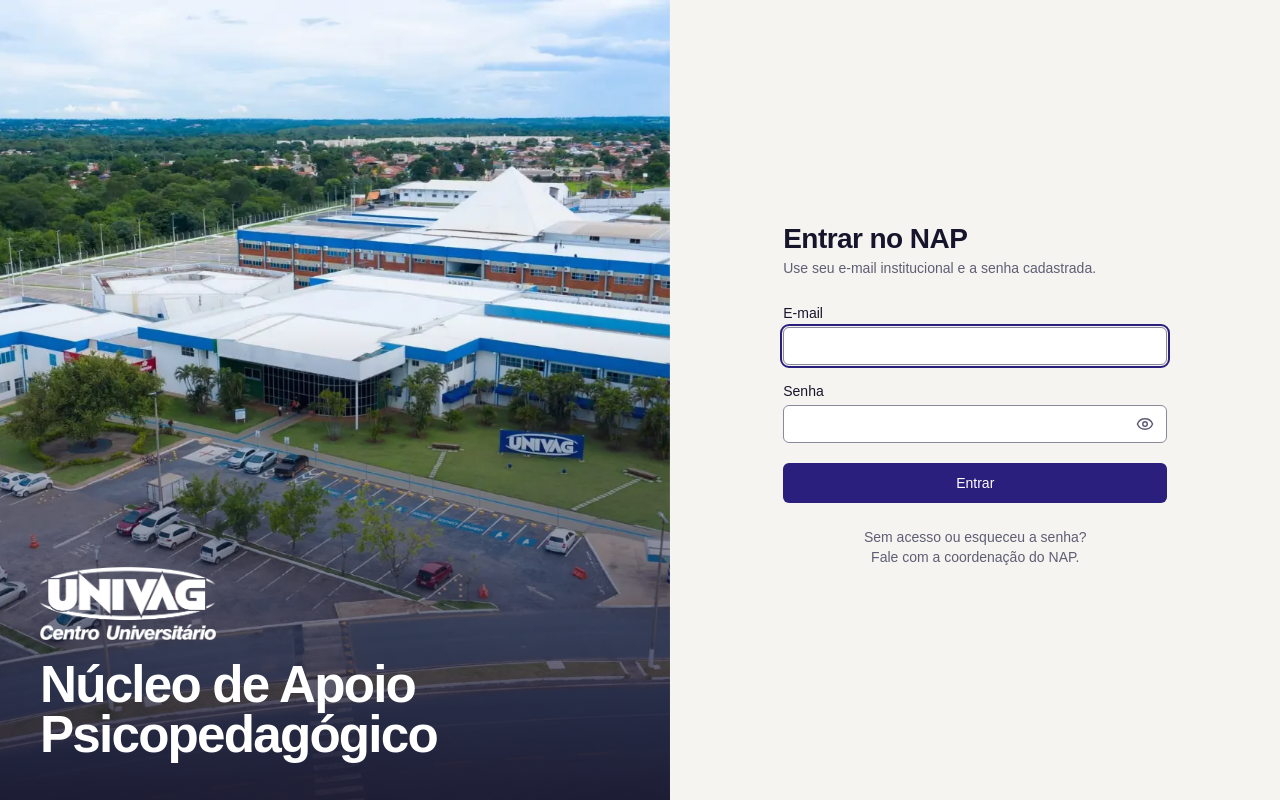
Test: LoginPage › limite_de_tentativas_mostra_a_mensagem_real
Step 1. Type "ana@nap.demo" into the field labelled "E-mail" → coordinates (975, 346), box [783,327,1167,365]
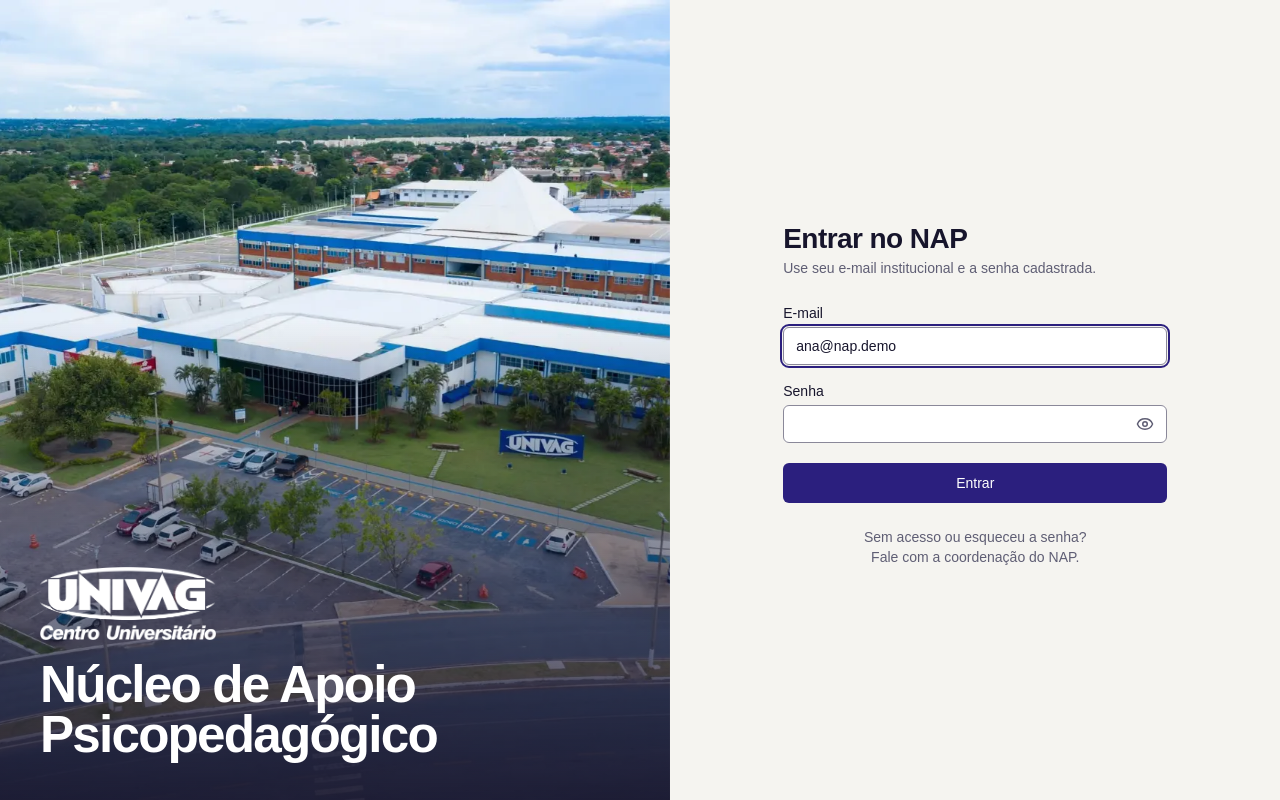
Step 2. Type "Senha12345" into the password field labelled "Senha" → coordinates (975, 424), box [783,405,1167,443]
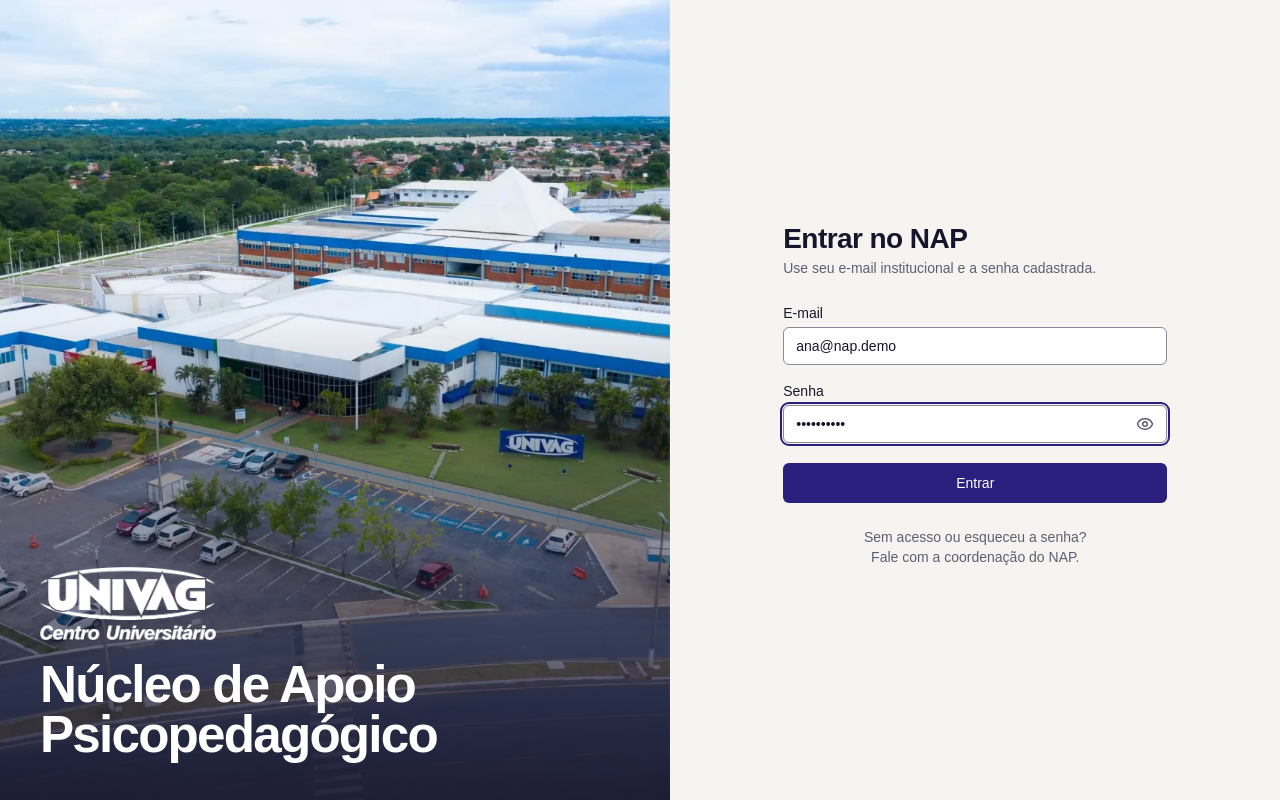
Step 3. Click the button "Entrar" → coordinates (975, 483), box [783,463,1167,503]
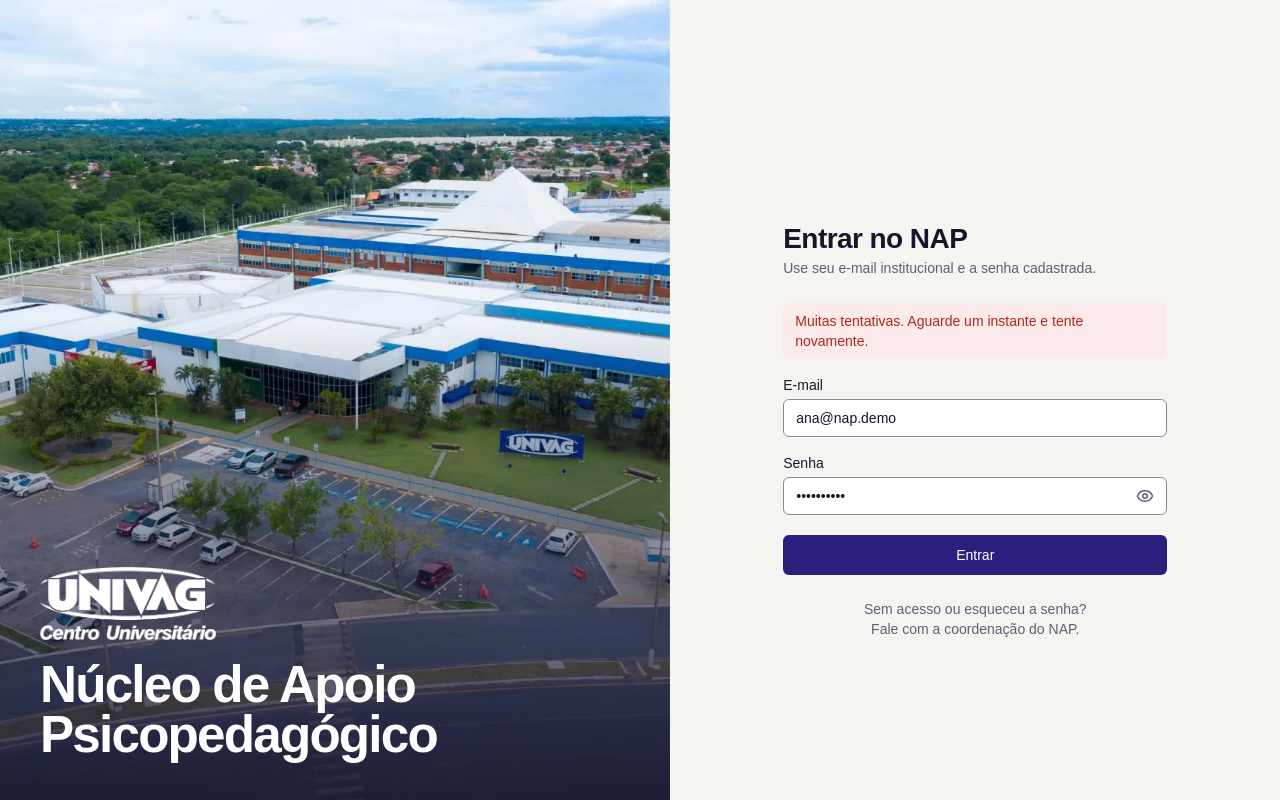
Expected: the message reads "Muitas tentativas. Aguarde um instante e tente novamente.", [795,313,1083,349]
